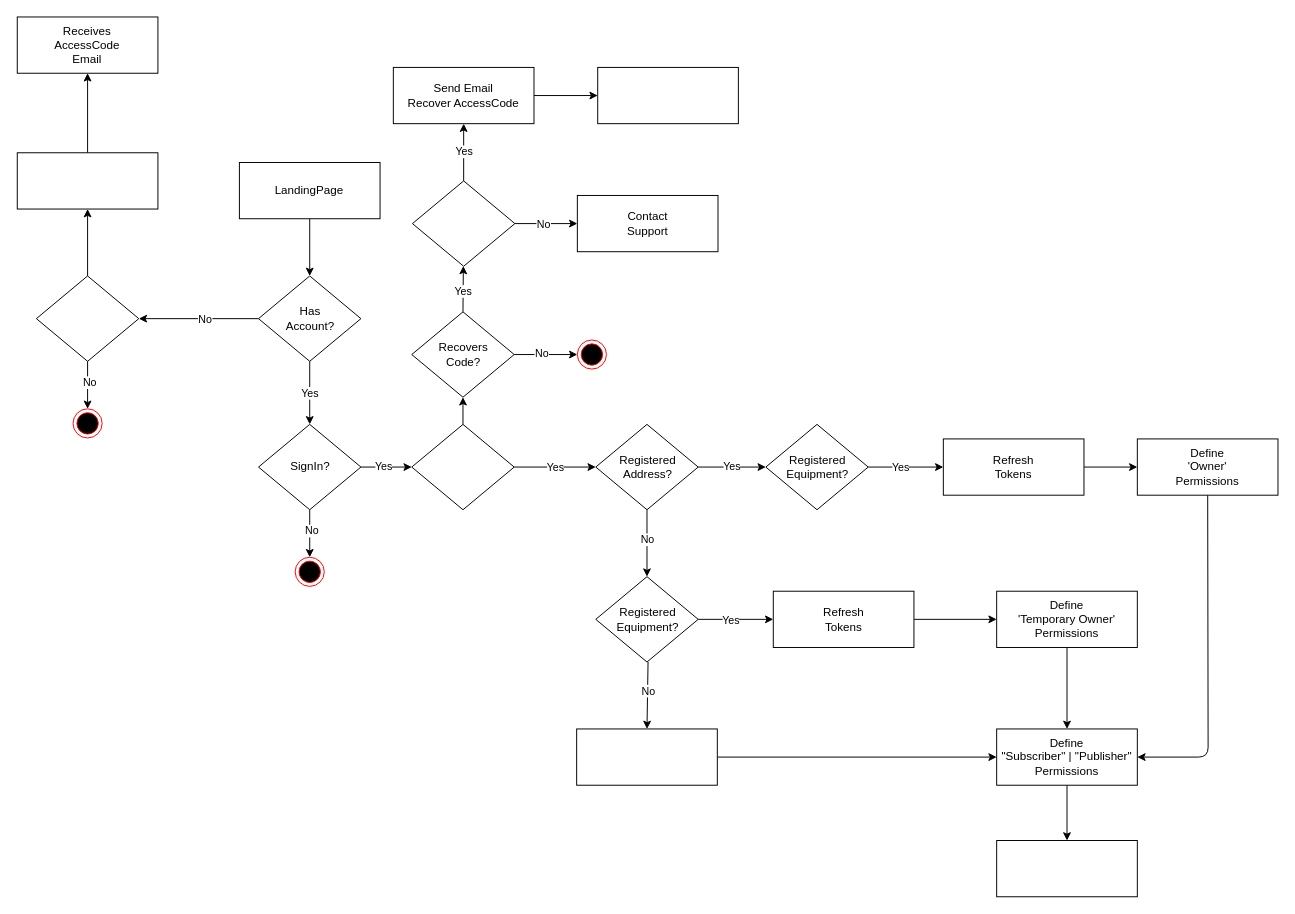
Some shapes in this 1295 by 914 pixel diagram are drawn without their labels. The centre of each missing label's shape, as x and y in pixels:
"Define 'Unknown' Permissions" belongs at point 646,756.
"Define AccessCode" belongs at point 667,95.
"HomePage" belongs at point 1066,868.
"Remembers Code?" belongs at point 462,466.
"Remembers Email?" belongs at point 463,223.
"Requires Email and PhoneNumber" belongs at point 87,180.
"SignUp?" belongs at point 87,318.
